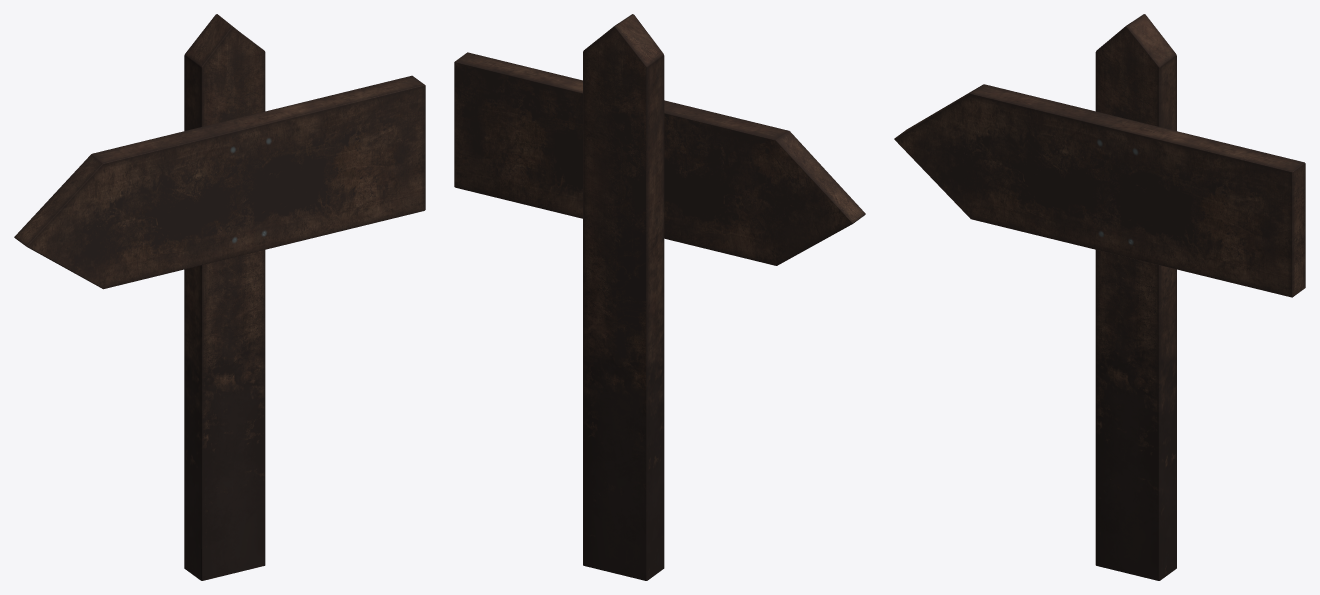
File: little_post_fbx.glb
The picture shows the model from 3 angles, left to right: view 1: azimuth 30°, elevation 25°; view 2: azimuth 150°, elevation 25°; view 3: azimuth 330°, elevation 25°; orthographic projection.
Visible parts, largest first — view 1: pCube2, pCube1; view 2: pCube1, pCube2; view 3: pCube2, pCube1.
Part boxes in pixels (x1,y1,x2,y2): pCube2: (14,75,425,289); pCube1: (184,14,265,580); pCube1: (583,14,664,580); pCube2: (454,52,865,265); pCube2: (894,84,1305,297); pCube1: (1095,14,1176,580).
Bounding box in the file's own units: 140 × 183 × 19.01.
1 material, 1 textured.
